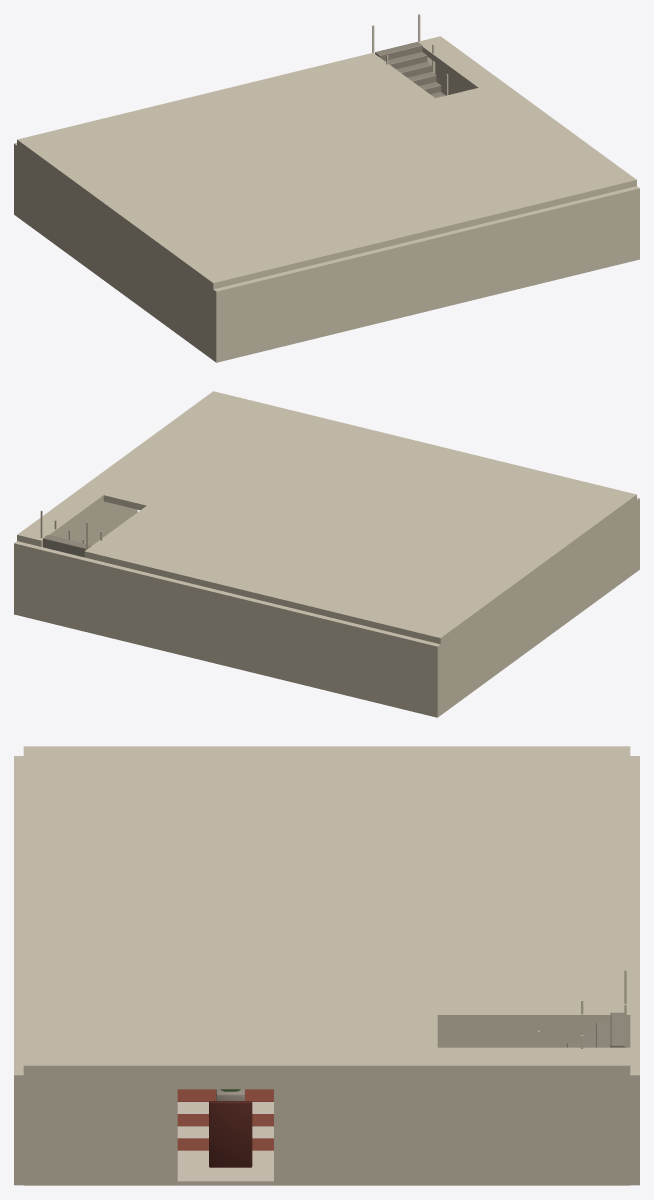
File: underground_mall.glb
3 renders of one model, top to bottom at view 1: azimuth 30°, elevation 25°; view 2: azimuth 150°, elevation 25°; view 3: azimuth 270°, elevation 25°, orthographic. The views are drawn at different scales.
Visible parts, largest first — view 1: UndergroundMall_Ceiling, UndergroundMall; view 2: UndergroundMall_Ceiling, UndergroundMall; view 3: UndergroundMall_Ceiling, UndergroundMall.
Part boxes in pixels (x1,y1,x2,y2): UndergroundMall_Ceiling: (17,36,636,289); UndergroundMall: (14,14,639,362); UndergroundMall_Ceiling: (17,391,636,644); UndergroundMall: (14,498,639,717); UndergroundMall_Ceiling: (23,746,630,1075); UndergroundMall: (14,756,639,1185).
Size of the model in its own units: 15.7 by 3.85 by 13.
